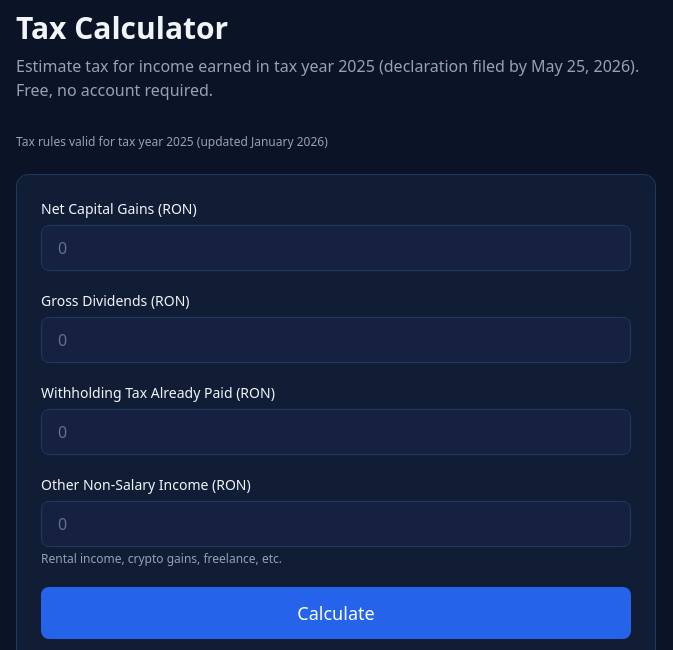
Scenario: CalculatorPage › shows validation error for zero input
Click the button "Calculate" at (336, 613), box [41,587,631,639]
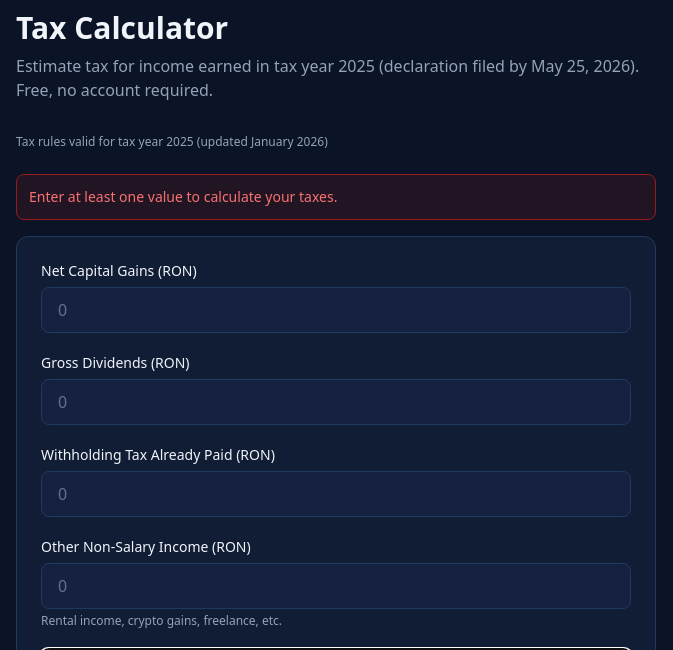
Now the message "Enter at least one value to calculate your taxes." is shown, box [16,174,656,220]
